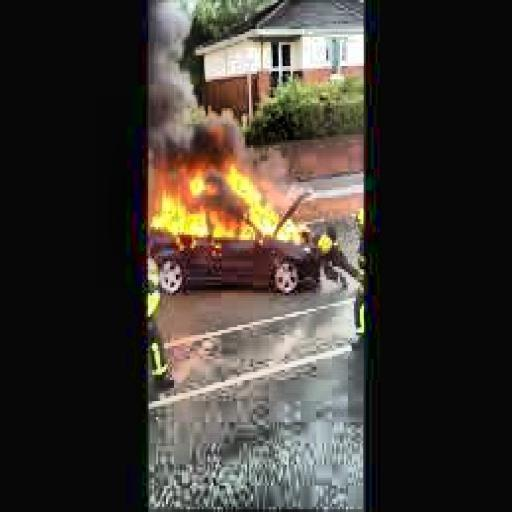fire: (142, 135, 328, 256)
